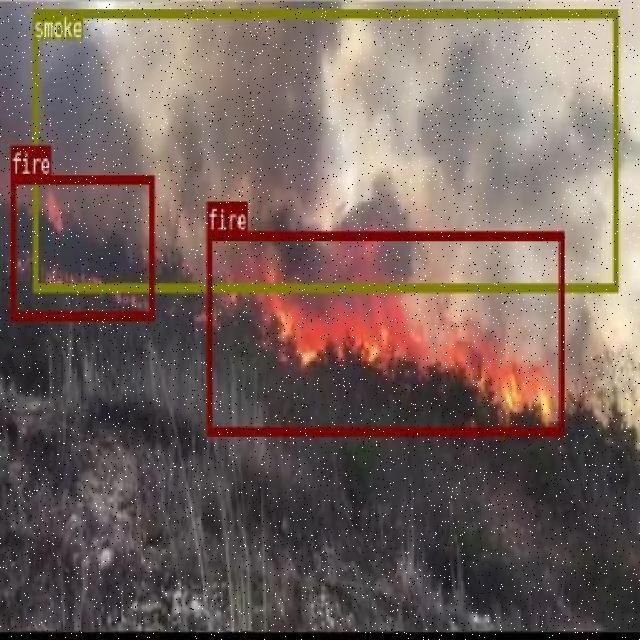Smoke: (32, 0, 617, 225)
